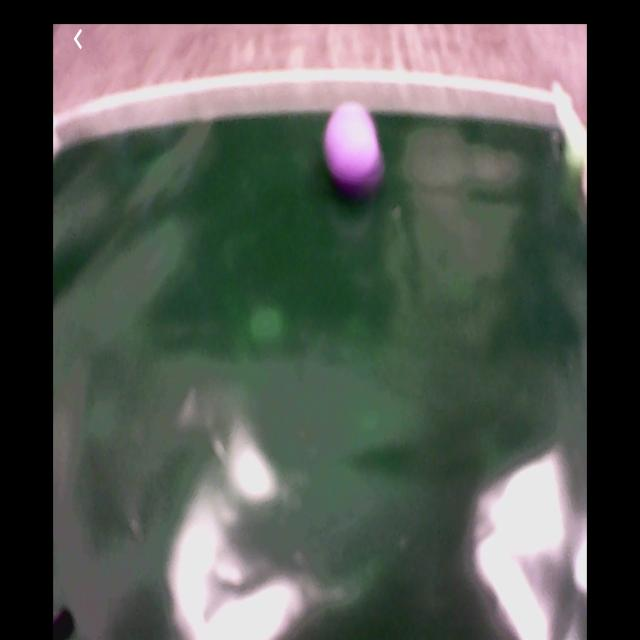ball: (327, 109, 379, 187)
